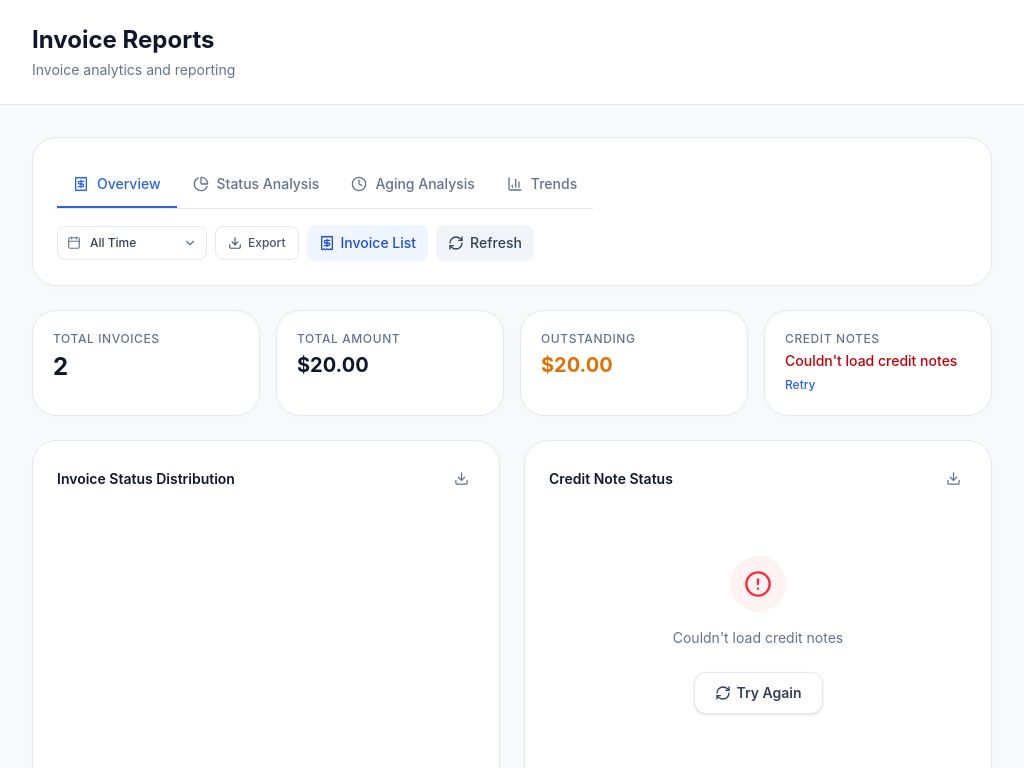
M. Invoicing reports › credit-note load failure is shown with a retry instead of a 0 total
Check: the text "Couldn't load credit notes" below "Outstanding" is shown, box [785, 352, 957, 369]
Click the button "Retry". click: (800, 385)
box: [785, 377, 816, 393]
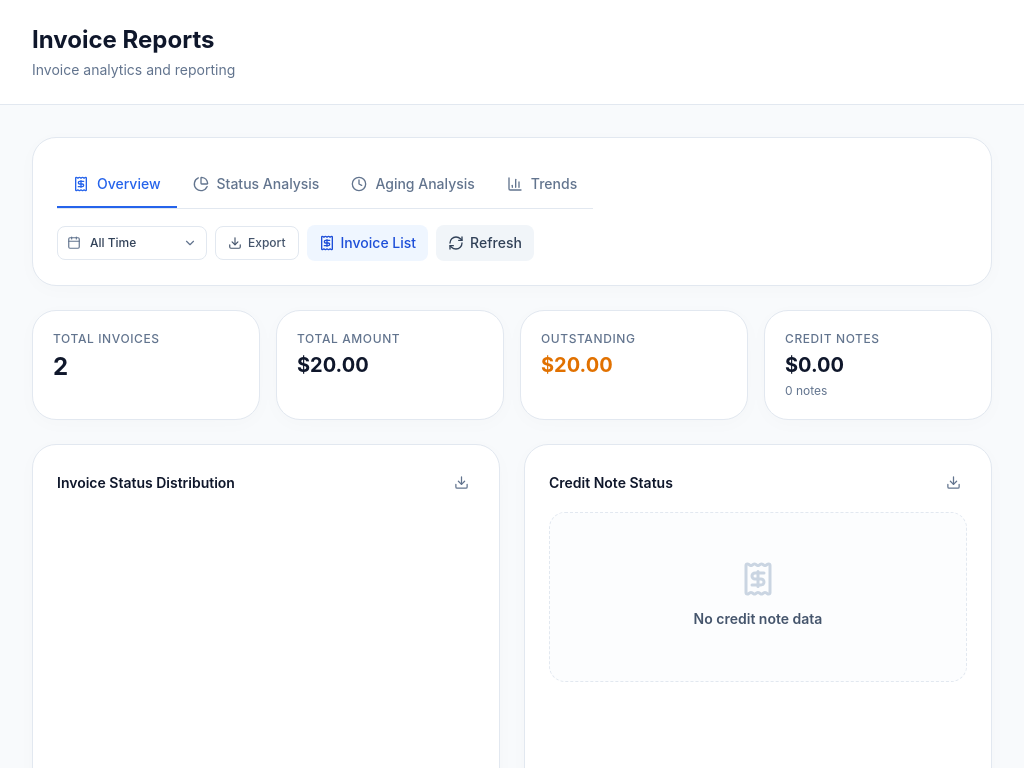
Check: the text "Couldn't load credit notes" is gone
Check: the text "0 notes" is shown, box [785, 383, 827, 398]
